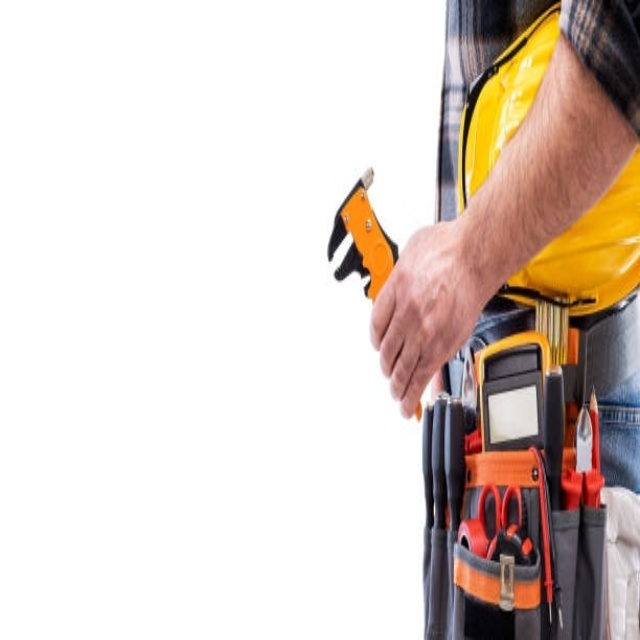Sin_guantes: (365, 221, 472, 419)
